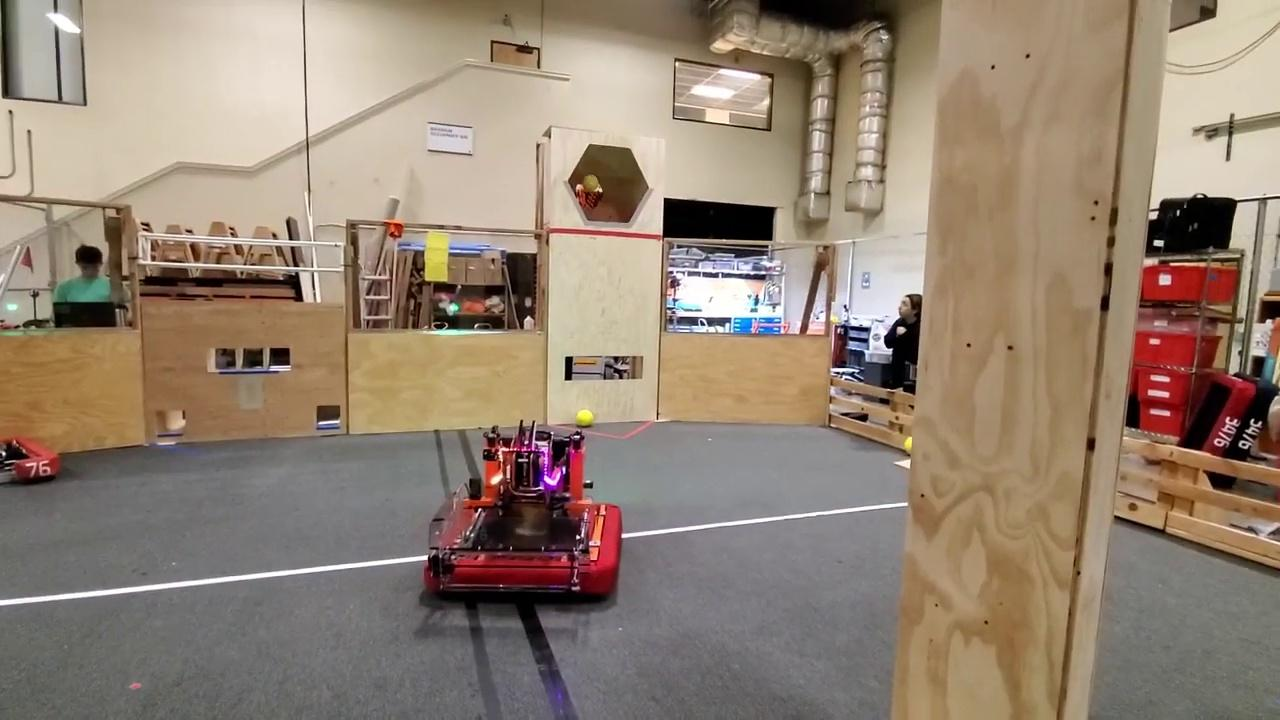robot: (421, 415, 623, 612)
